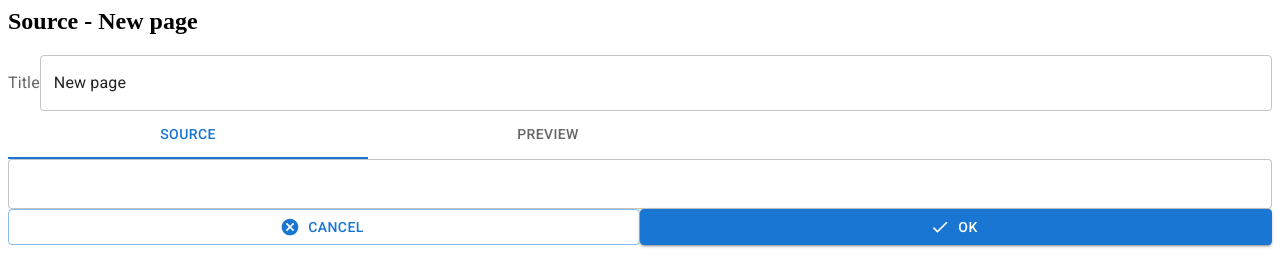
PageContentEditor component › should show "editing" when the content is updated
The image size is (1280, 265).
Step 1. Type "## What's this?" into the text box → (640, 184), box [8,159,1272,209]
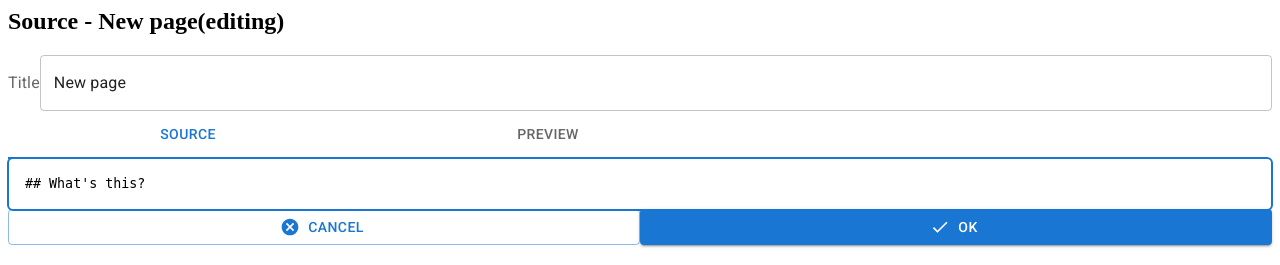
Expected: the text "editing" is shown, [206,8,276,34]
